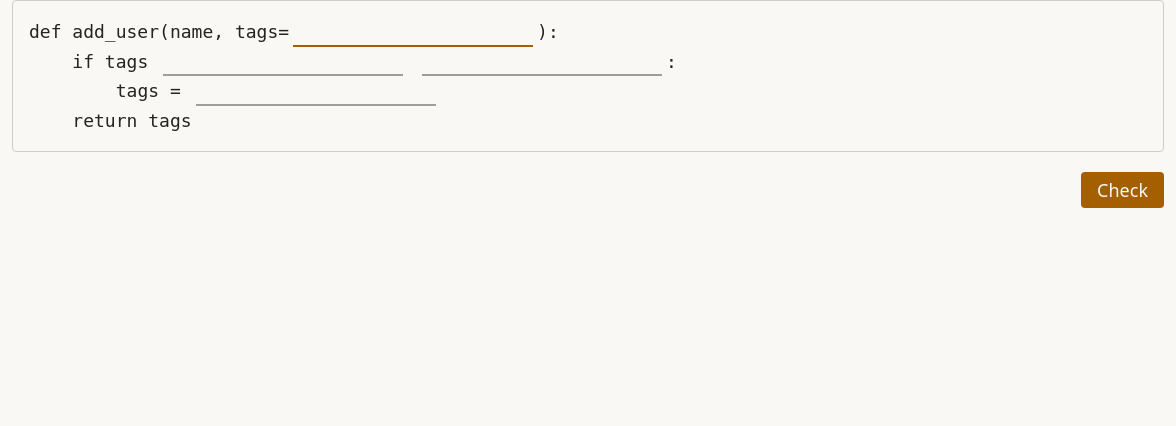
Test: FillInCard — post-submit › wrong blanks show "Correct: <answers joined by or>" remediation
Type "None" into the field next to "def add_user(name, tags=" at (413, 33), box [293,19,533,47]
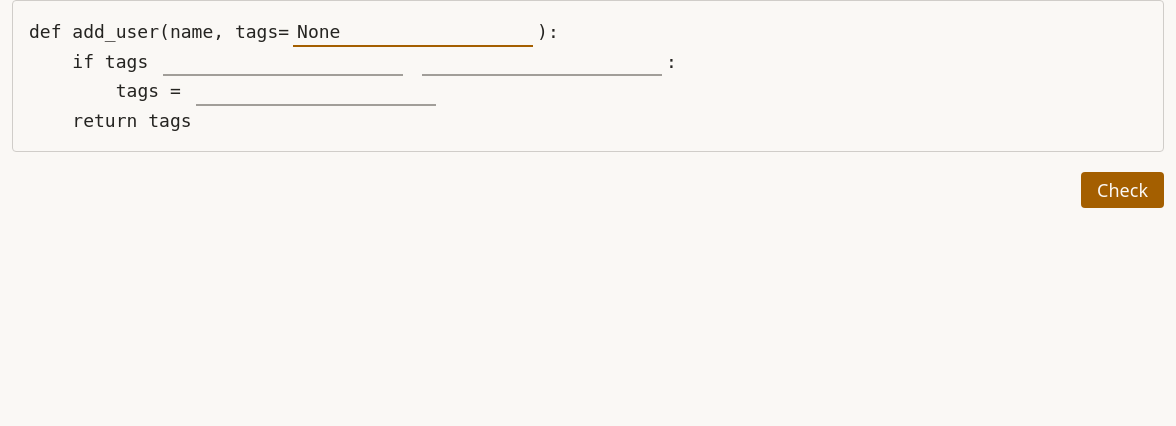
Type "wrong" into the field below "): if tags" at (283, 63), box [163,49,403,76]
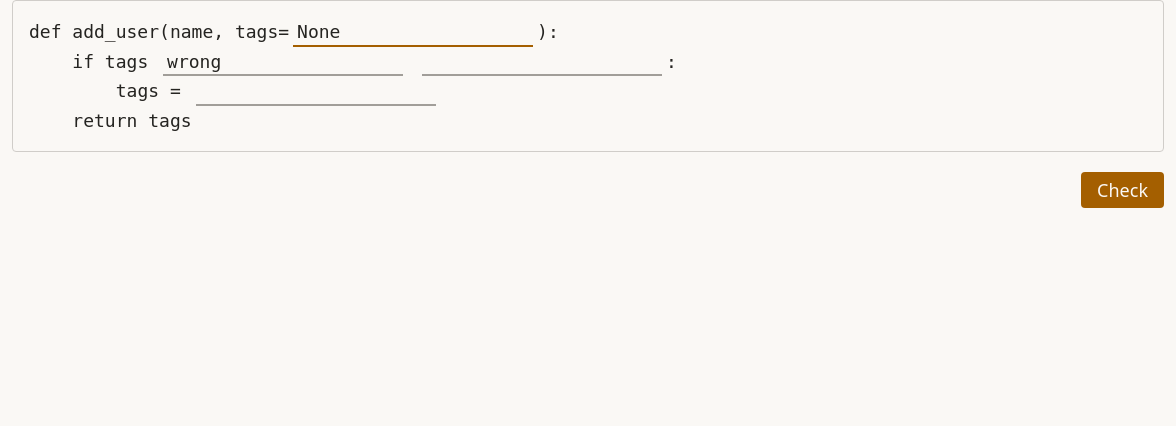
Type "wrong" into the 3rd field at (542, 63), box [422,49,662,76]
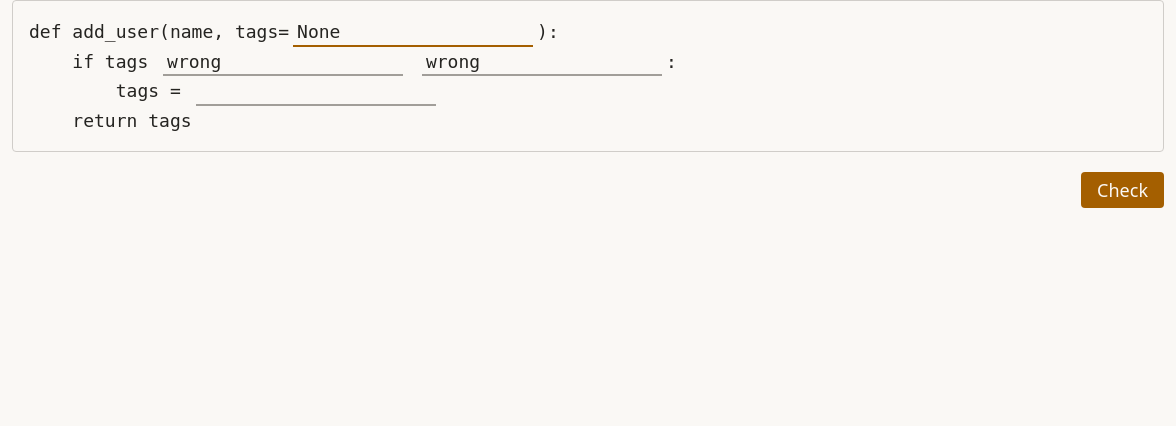
Type "wrong" into the field below ": tags =" at (316, 92), box [196,78,436,106]
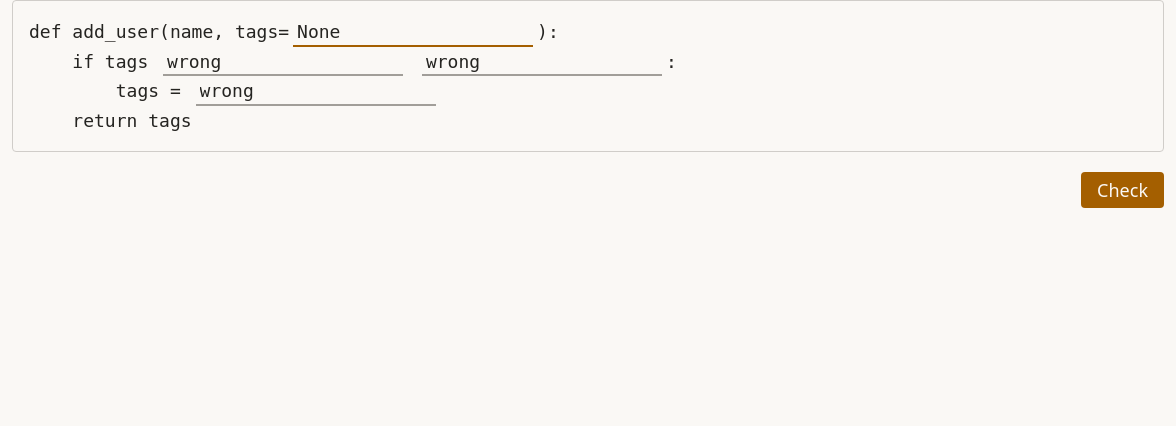
Click the button "Check" at (1123, 190), box [1081,172,1164,208]
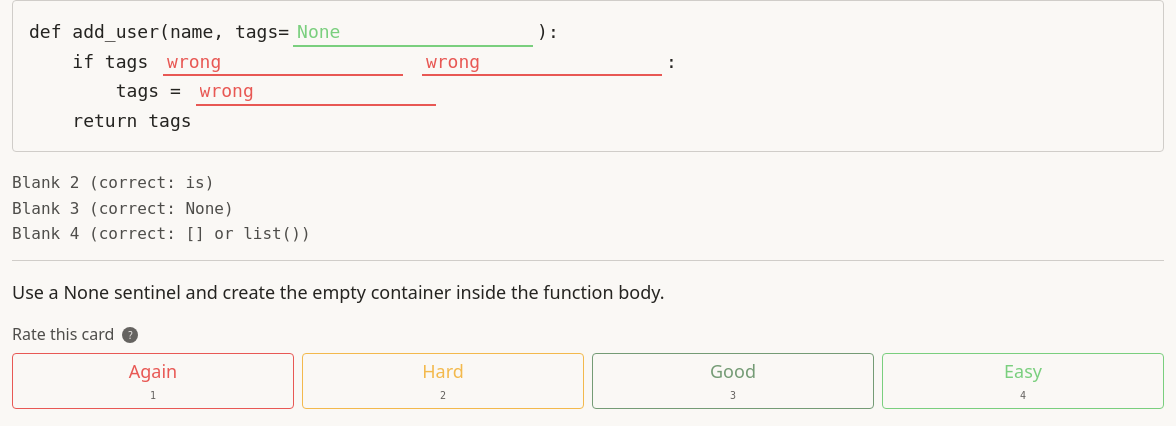
expect the number of list items with test id "blank-remediation" is 3: met, box [12,173,214,192]; [12,199,234,218]; [12,224,311,243]
expect the list item "Blank 4 (correct: [] or list())" is shown: met, box [12,224,311,243]
